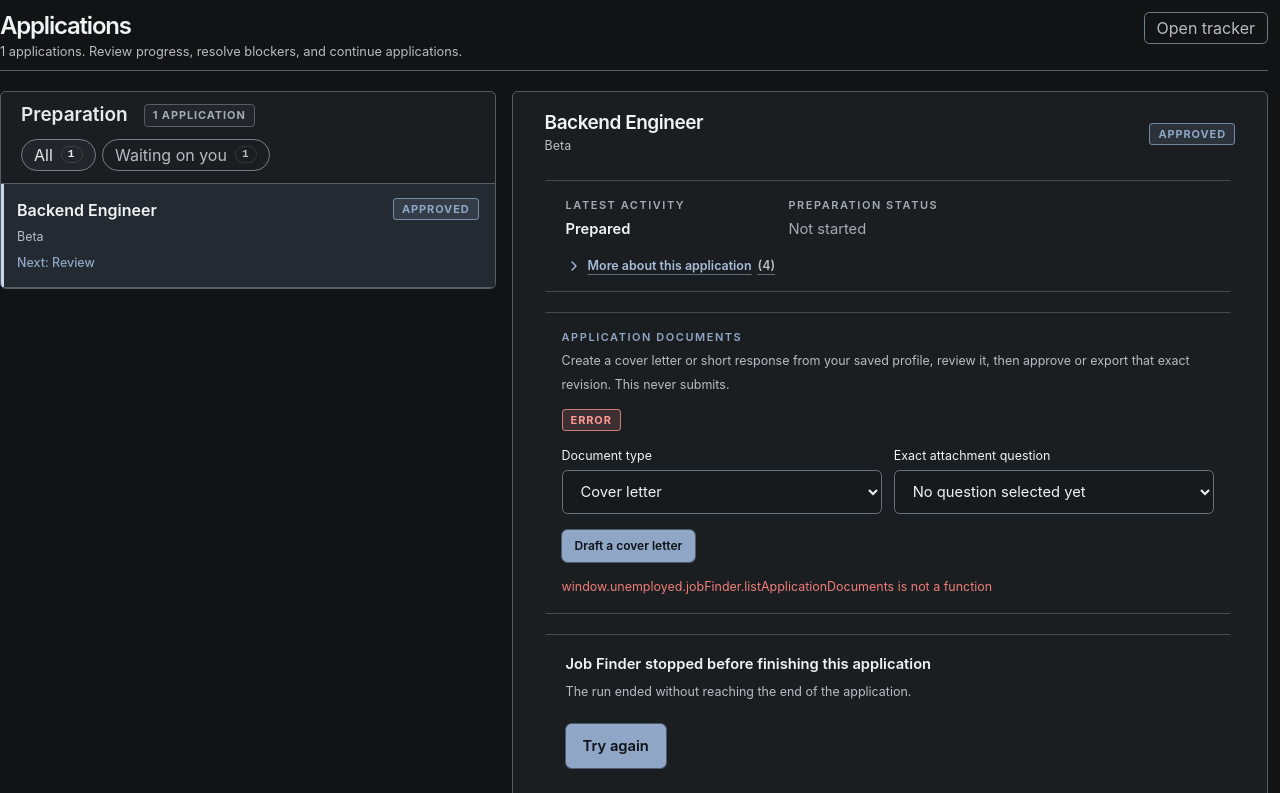
Test case: ApplicationsScreen › hides CRM tracking controls when the lifecycle view has zero matches and restores them via Show all applications
Step 1. Click the button "Open tracker" → [1206, 28], box [1144,12,1268,44]
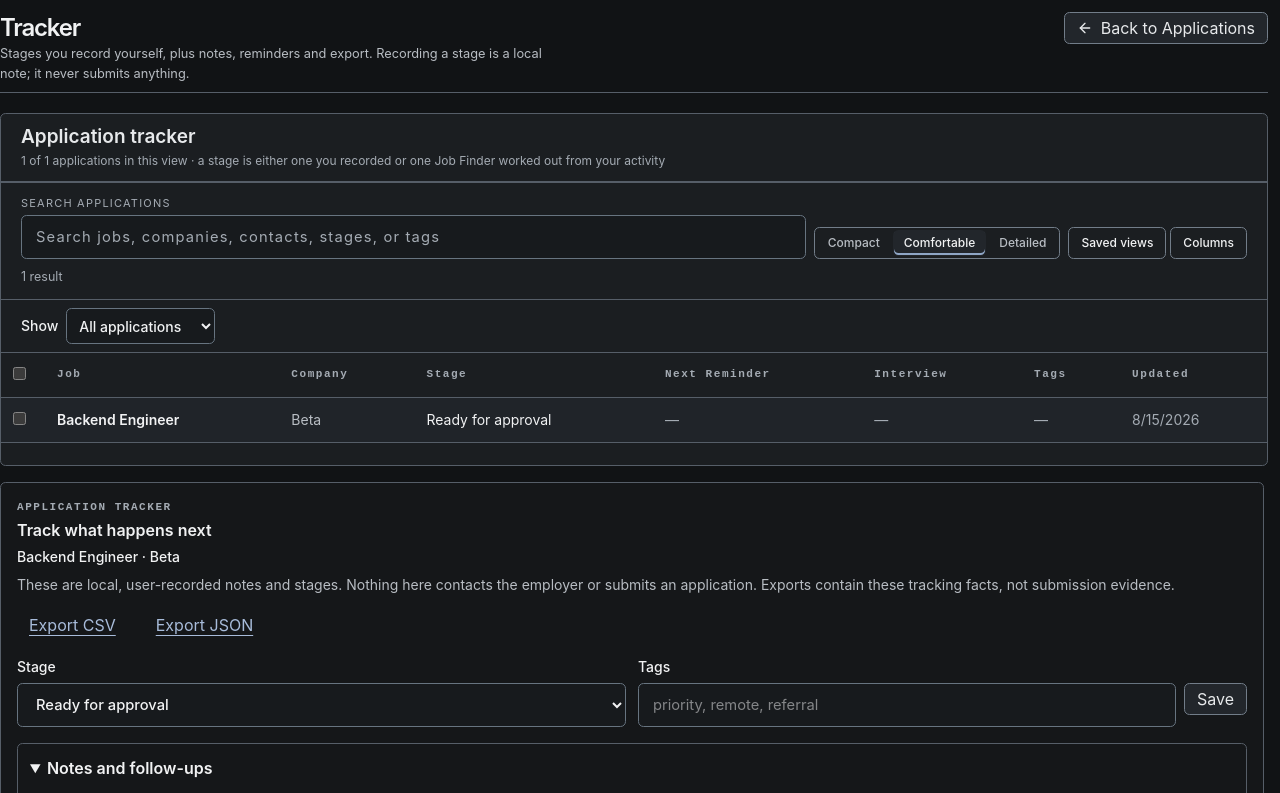
Expected: the dropdown labelled "Stage" is shown, [17,683,626,727]
Step 2. Select "Offers" in the dropdown labelled "Show" → [141, 326], box [66,308,215,344]
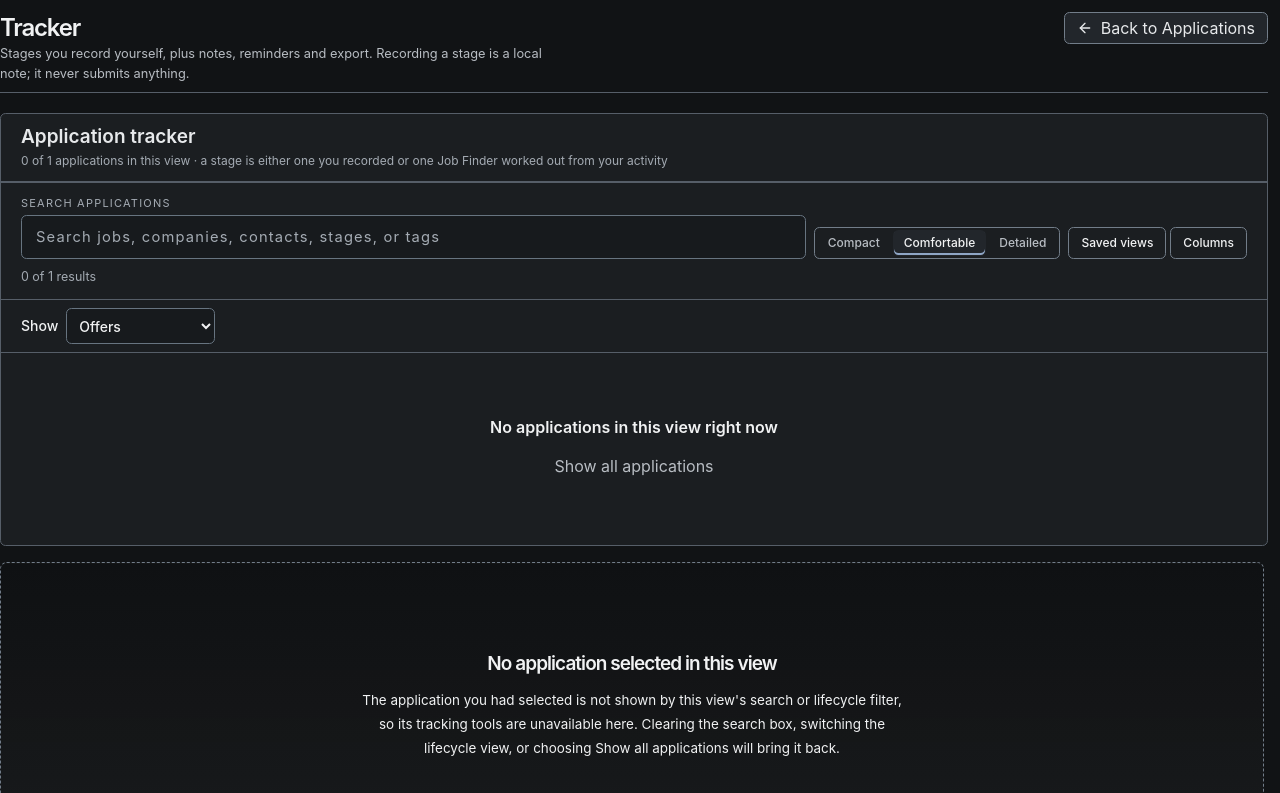
Expected: the heading "No application selected in this view" is shown, [487,652,777,675]
Expected: the button "Export CSV" is gone
Step 3. Click the button "Show all applications" → [634, 466], box [542,450,727,482]
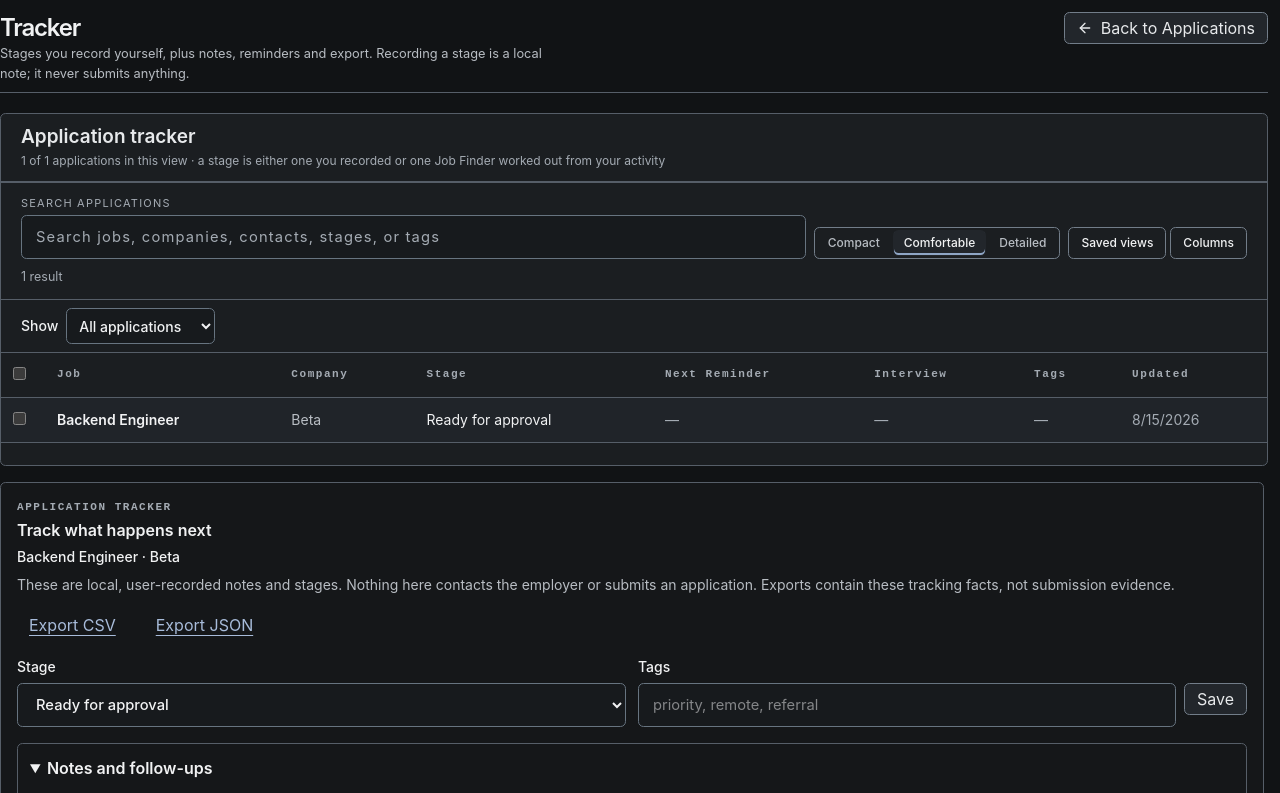
Expected: the dropdown labelled "Stage" is shown, [17,683,626,727]
Expected: the text "Backend Engineer · Beta" is shown, [17,548,180,565]
